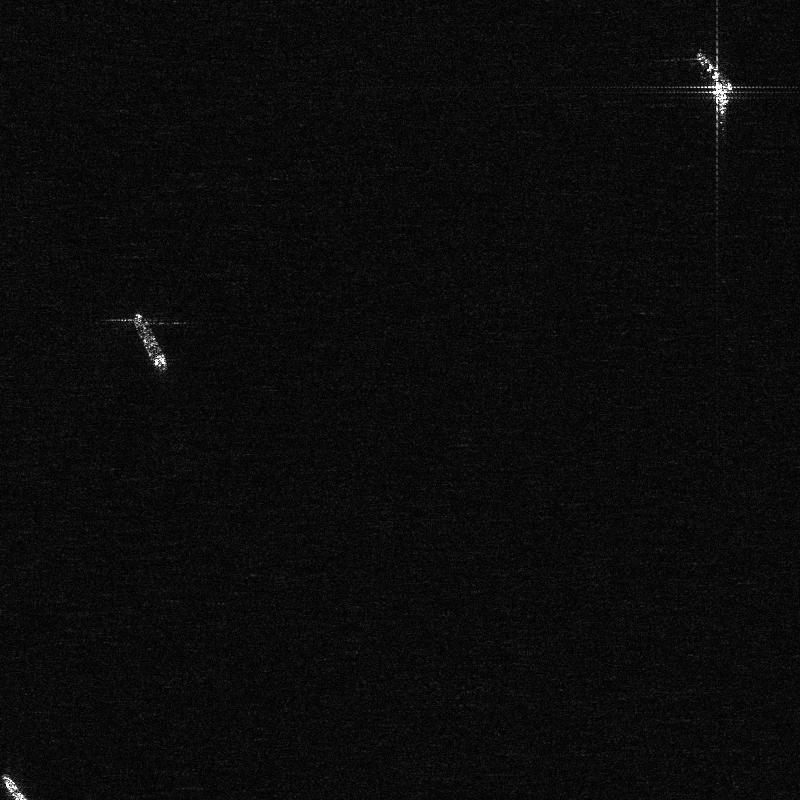ship: (132, 312, 168, 371), (696, 52, 732, 91), (1, 773, 28, 799), (714, 83, 726, 116)
